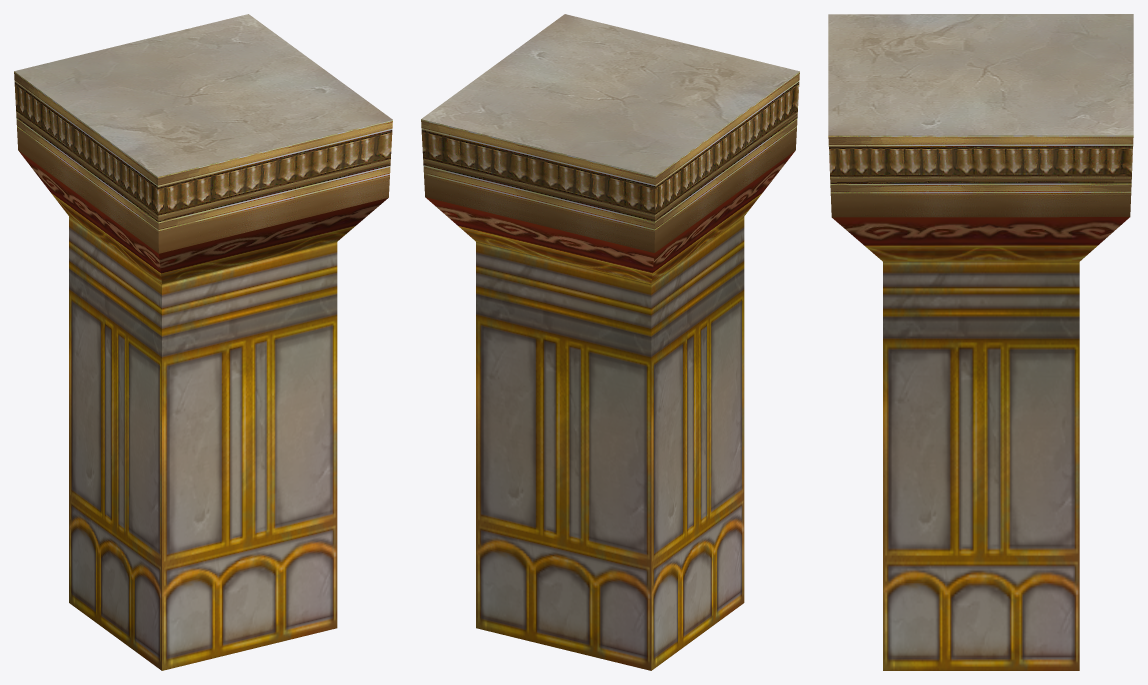
File: G_yuanjin002.fbx
3 views of the same model, side by side, from view 1: azimuth 30°, elevation 25°; view 2: azimuth 150°, elevation 25°; view 3: azimuth 270°, elevation 25° (orthographic). The views are drawn at different scales.
Parts seen in each view (by area): view 1: G_yuanjin002; view 2: G_yuanjin002; view 3: G_yuanjin002.
Boxes of the visible parts, x1,y1,x2,y2 form: G_yuanjin002: [14, 14, 392, 670]; G_yuanjin002: [421, 14, 799, 670]; G_yuanjin002: [828, 14, 1133, 670].
Bounding box in the file's own units: 1047 × 2214 × 1111.
